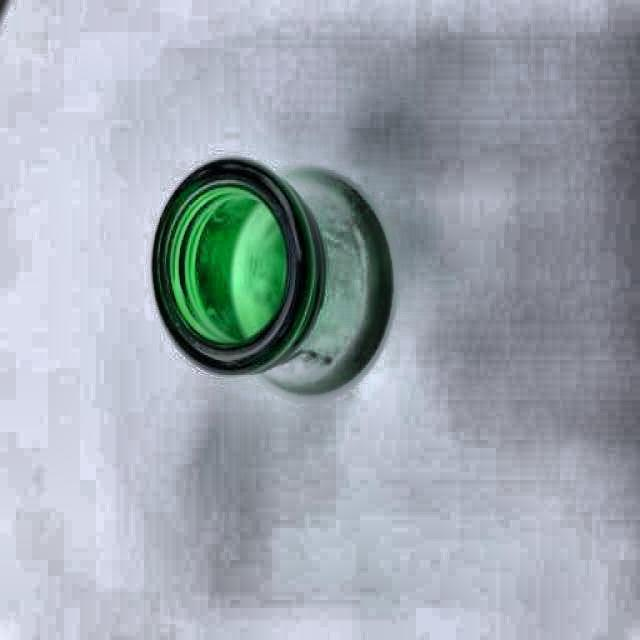glass: (150, 157, 394, 398)
